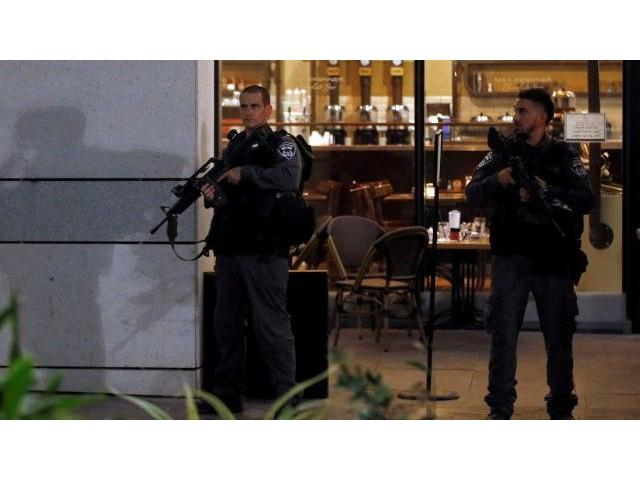rifle: (147, 131, 266, 238), (482, 130, 571, 246)
